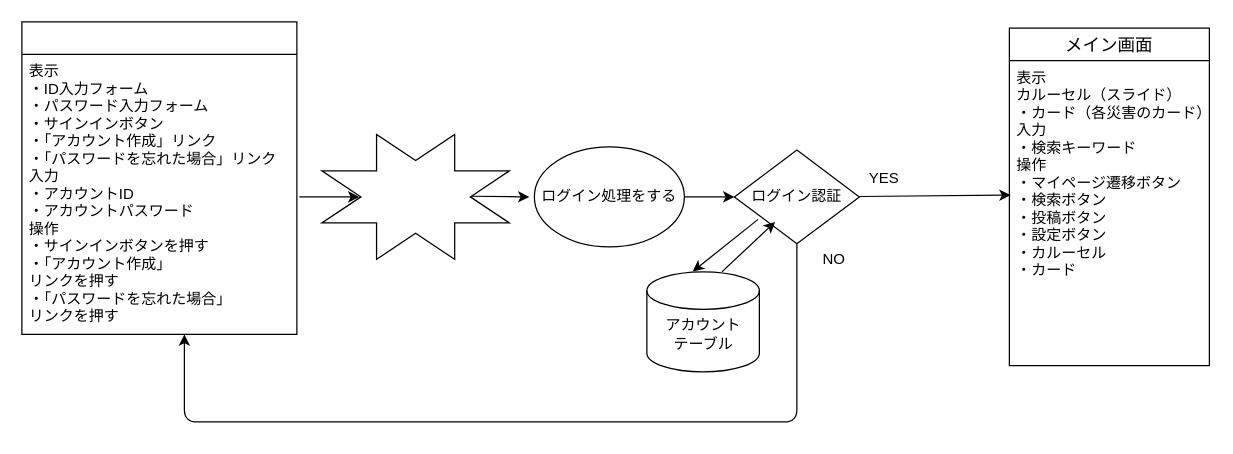
This 1233x454 diagram has some shape labels left out. The shapes that lost their labels are listed below. From the top down, each one's box as (x1, y1, x2, y2) in pixels, then its label:
(21, 21, 297, 334): ログイン画面
(321, 133, 509, 259): 「サインイン」ボタン を押す
